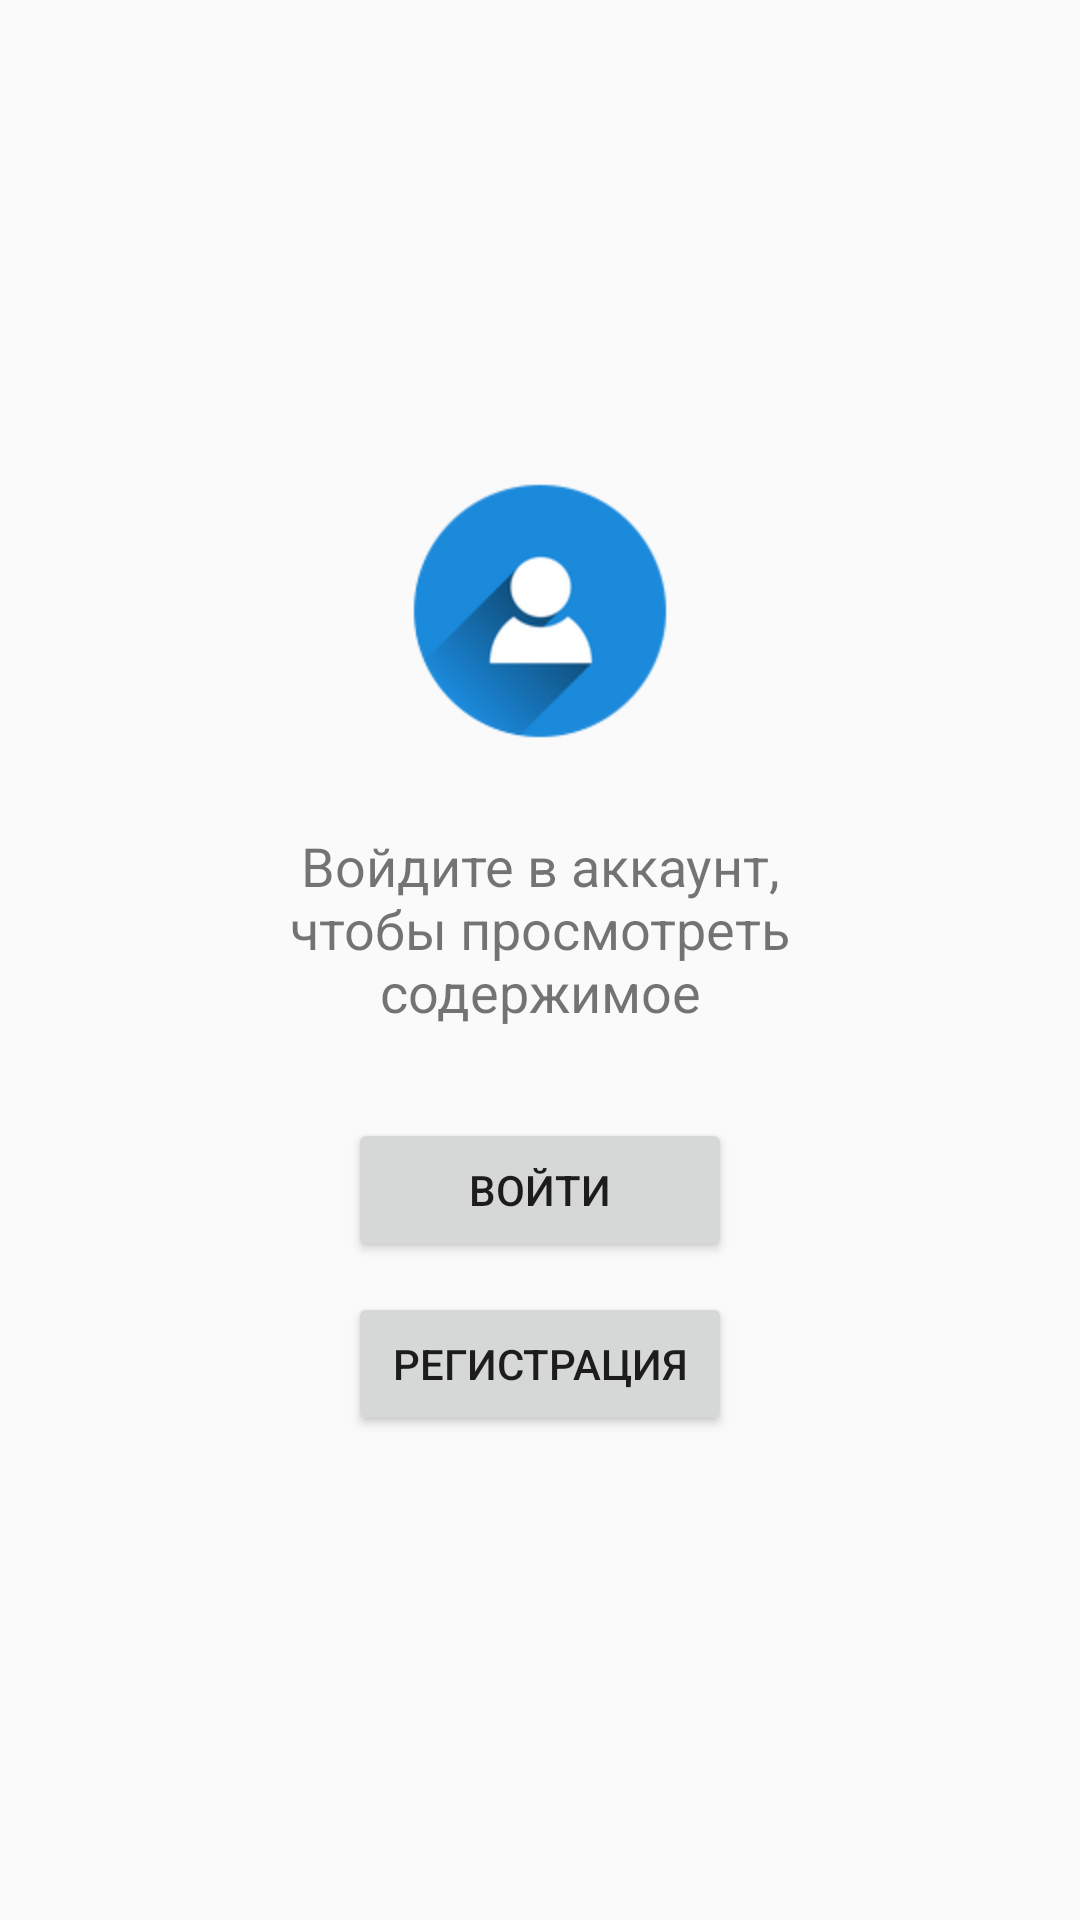

Icons on this 1080 × 1920 Android screen, each with its box as (x1, y1, x2, y2):
profile: (413, 484, 667, 738)
